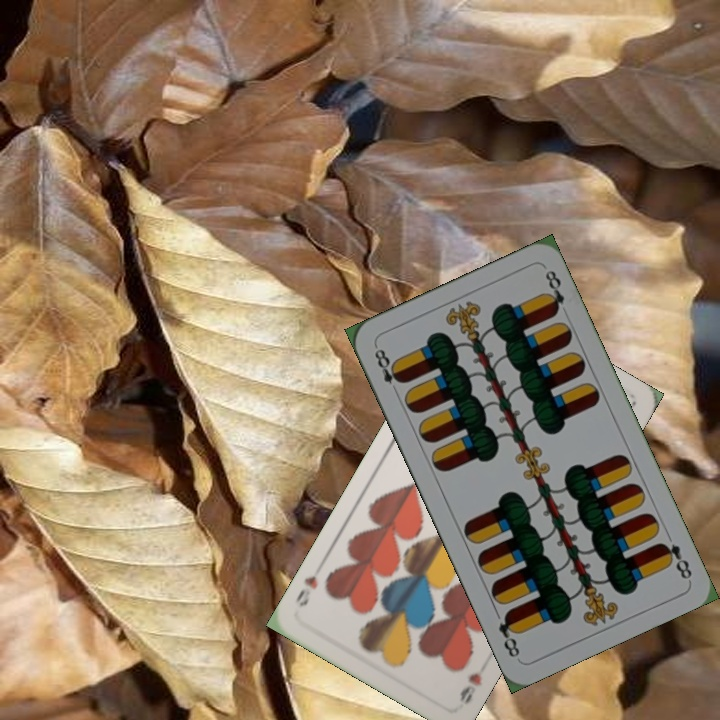E8: (370, 342, 406, 398), (655, 538, 695, 582)
H9: (455, 668, 485, 706)
